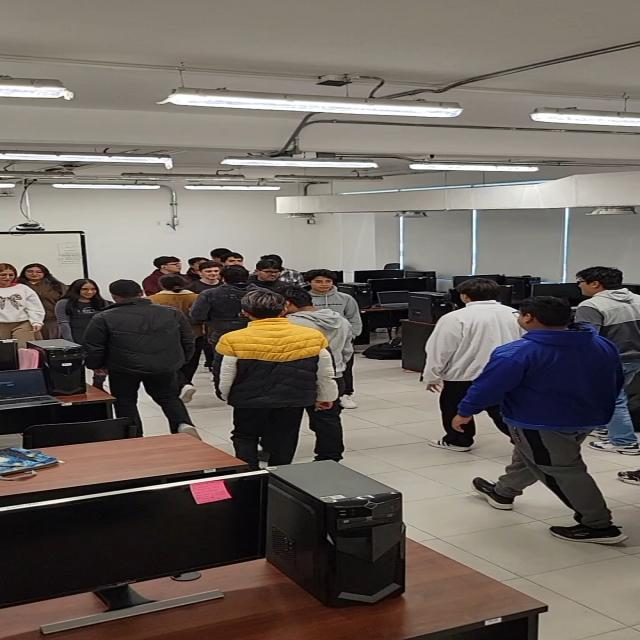Persona: (466, 297, 628, 551), (218, 288, 319, 467), (87, 283, 194, 437), (427, 279, 502, 451), (576, 264, 640, 451), (312, 264, 368, 410), (56, 273, 101, 347), (0, 260, 37, 348), (26, 262, 64, 344)
